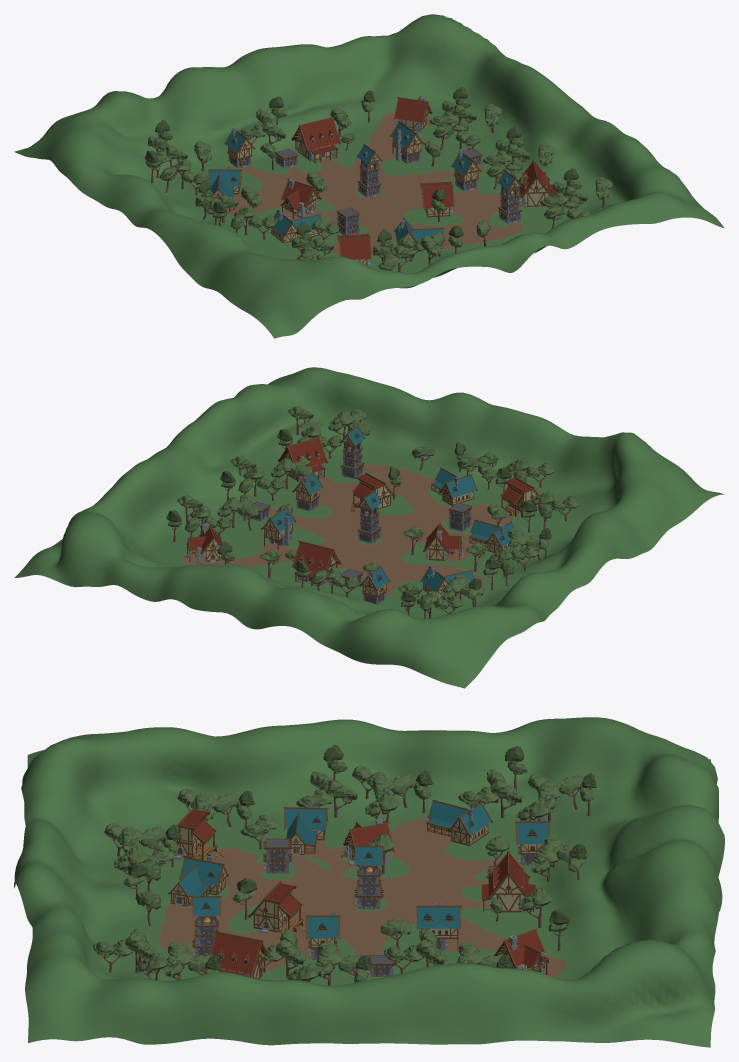
The model's file is Map1.glb.
3 renders of one model, top to bottom at view 1: azimuth 30°, elevation 25°; view 2: azimuth 150°, elevation 25°; view 3: azimuth 270°, elevation 25°, orthographic. The views are drawn at different scales.
Parts seen in each view (by area): view 1: Grid, Inn_Cube.393, Blacksmith_Cube.000, Inn_Cube.001, Bell_Tower_Cube.001, Bell_Tower_Cube.296, Blacksmith_Cube.001, House_2_Cylinder.021, Stable_Cube.195, Stable_Cube.001, Sawmill_Cube.001, Sawmill_Cube.047 (+4 smaller); view 2: Grid, Inn_Cube.393, Stable_Cube.002, Inn_Cube.001, Stable_Cube.001, Blacksmith_Cube.001, Bell_Tower_Cube.296, Blacksmith_Cube.000, Bell_Tower_Cube.001, Sawmill_Cube.001, House_2_Cylinder.021, Sawmill_Cube.047 (+4 smaller); view 3: Grid, Stable_Cube.195, Inn_Cube.393, Stable_Cube.002, Inn_Cube.001, Sawmill_Cube.047, Stable_Cube.001, Bell_Tower_Cube.296, Sawmill_Cube.001, Blacksmith_Cube.001, House_2_Cylinder.021, Bell_Tower_Cube.001 (+15 smaller).
Part boxes in pixels (x1,y1,x2,y2): Grid: (14,14,724,338); Inn_Cube.393: (291,116,341,163); Blacksmith_Cube.000: (280,178,321,219); Inn_Cube.001: (514,159,555,207); Bell_Tower_Cube.001: (497,169,522,223); Bell_Tower_Cube.296: (356,144,382,197); Blacksmith_Cube.001: (393,96,432,131); House_2_Cylinder.021: (390,120,424,163); Stable_Cube.195: (208,165,242,198); Stable_Cube.001: (270,209,322,243); Sawmill_Cube.001: (337,232,371,265); Sawmill_Cube.047: (420,180,454,217); Grid: (14,367,723,688); Inn_Cube.393: (291,540,341,587); Stable_Cube.002: (431,467,477,505); Inn_Cube.001: (278,436,328,481); Stable_Cube.001: (469,519,514,552); Blacksmith_Cube.001: (184,522,223,564); Bell_Tower_Cube.296: (356,490,382,543); Blacksmith_Cube.000: (422,522,464,560); Bell_Tower_Cube.001: (339,425,365,478); Sawmill_Cube.001: (500,476,539,517); House_2_Cylinder.021: (261,505,296,549); Sawmill_Cube.047: (350,472,395,512); Grid: (14,717,724,1047); Stable_Cube.195: (426,799,493,846); Inn_Cube.393: (481,850,535,912); Stable_Cube.002: (168,856,228,906); Inn_Cube.001: (210,931,267,978); Sawmill_Cube.047: (247,881,305,933); Stable_Cube.001: (283,802,328,855); Bell_Tower_Cube.296: (354,845,384,909); Sawmill_Cube.001: (161,807,224,860); Blacksmith_Cube.001: (494,928,550,974); House_2_Cylinder.021: (416,902,461,950); Bell_Tower_Cube.001: (192,896,221,956).
Bounding box in the file's own units: 512 × 58.68 × 520.
85 materials, 1 textured.
